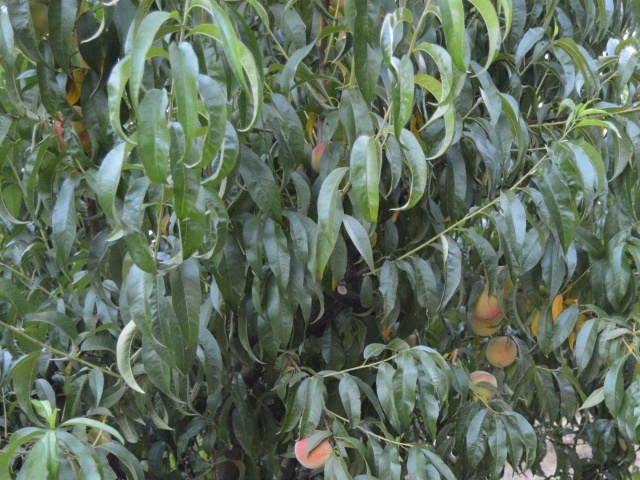peach: (468, 285, 508, 336), (290, 426, 335, 471), (483, 329, 521, 369), (465, 366, 501, 395), (306, 138, 333, 175)
